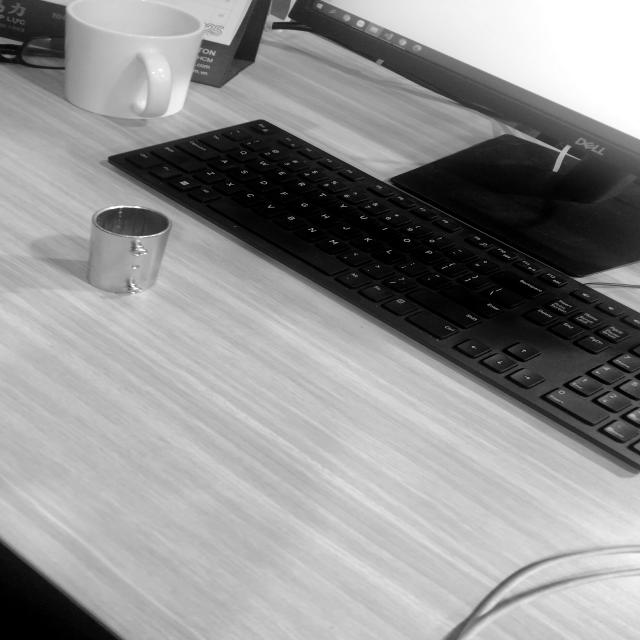Co_Lon: (85, 202, 173, 298)
